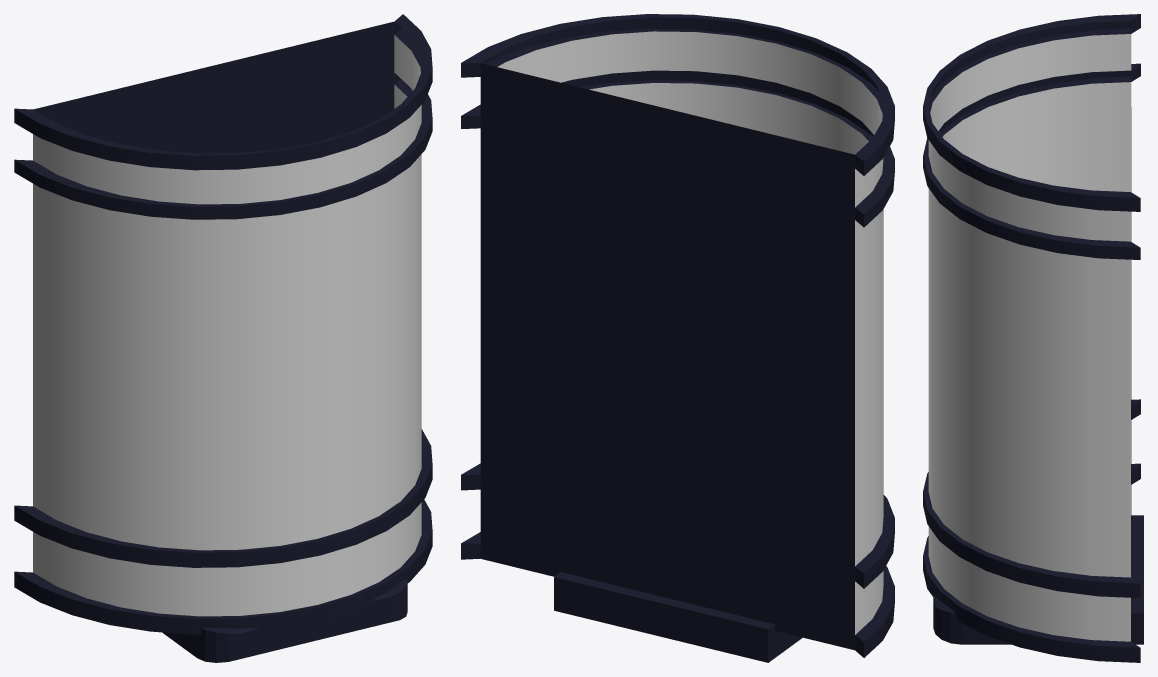
File: HallLights.fbx
3 renders of one model, left to right at view 1: azimuth 30°, elevation 25°; view 2: azimuth 150°, elevation 25°; view 3: azimuth 270°, elevation 25°, orthographic. The views are drawn at different scales.
Parts seen in each view (by area): view 1: Circle.001; view 2: Circle.001; view 3: Circle.001.
Part boxes in pixels (left/top/right/bottom): Circle.001: left=14, top=14, right=432, bottom=662; Circle.001: left=461, top=14, right=894, bottom=662; Circle.001: left=923, top=14, right=1143, bottom=662.
Size of the model in its own units: 23.95 by 29.7 by 12.14.
